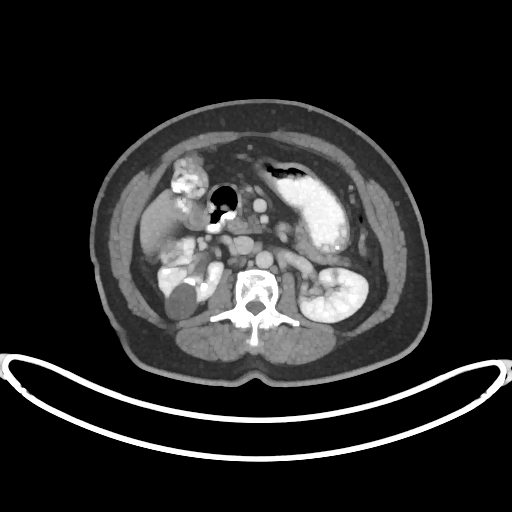Lesion: (165, 281, 198, 322)
